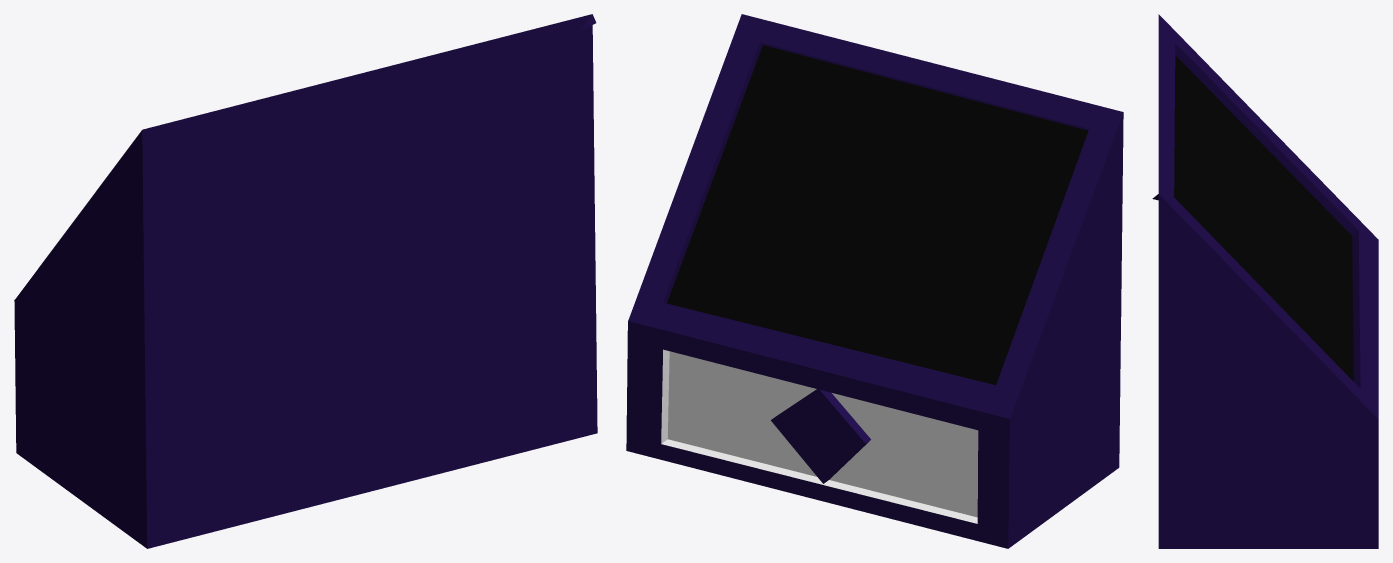
Rendered from consoleFab.fbx.
The picture shows the model from 3 angles, left to right: view 1: azimuth 30°, elevation 25°; view 2: azimuth 150°, elevation 25°; view 3: azimuth 270°, elevation 25°; orthographic projection. The views are drawn at different scales.
Visible parts, largest first — view 1: Cube.002, Cube.003; view 2: Cube.002, Cube.003; view 3: Cube.002, Cube.003.
Part boxes in pixels (bbox=[...]): Cube.002: bbox=[14, 14, 596, 396]; Cube.003: bbox=[14, 280, 597, 548]; Cube.002: bbox=[628, 14, 1123, 418]; Cube.003: bbox=[626, 320, 1120, 548]; Cube.002: bbox=[1152, 14, 1378, 418]; Cube.003: bbox=[1158, 239, 1378, 548].
Size of the model in its own units: 356 by 319 by 183.
